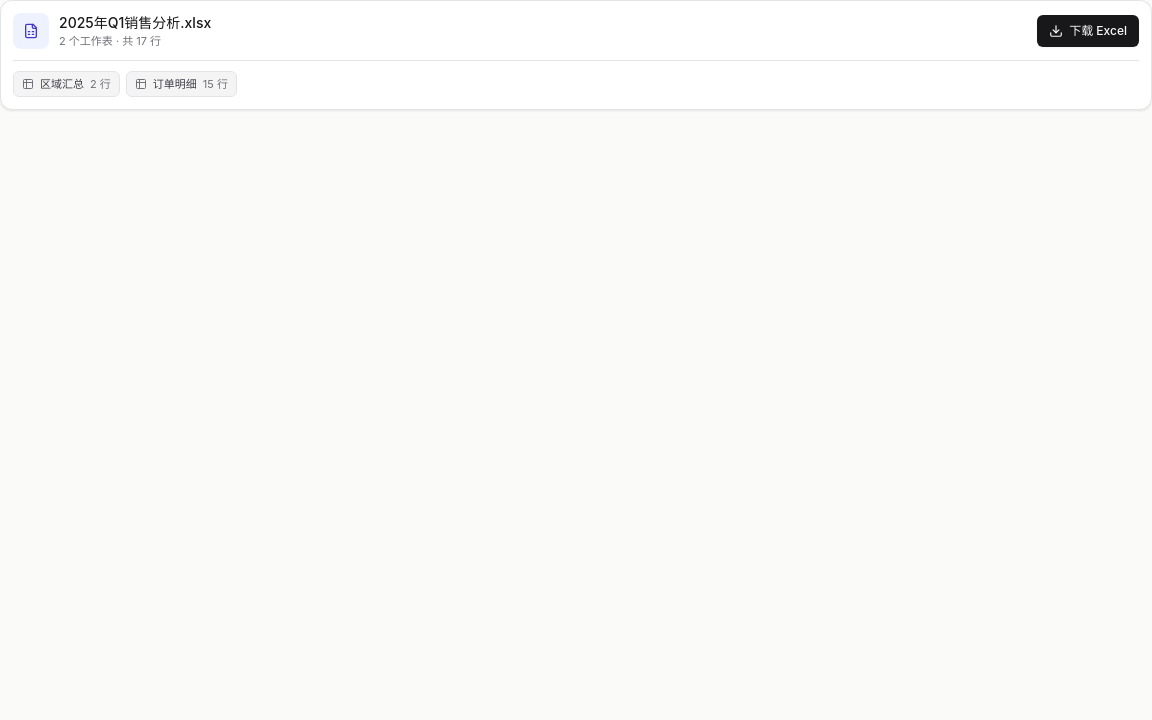
Test: ExcelCard › renders filename, sheet summary, download link and opens cached + lazy sheet previews
expect the text "2025年Q1销售分析.xlsx" is shown: met, box x1=59 y1=13 x2=211 y2=33
expect the text "2 个工作表 · 共 17 行" is shown: met, box x1=59 y1=34 x2=161 y2=48
Click the button "区域汇总 2 行" at x=66, y=84, box x1=13 y1=70 x2=120 y2=97
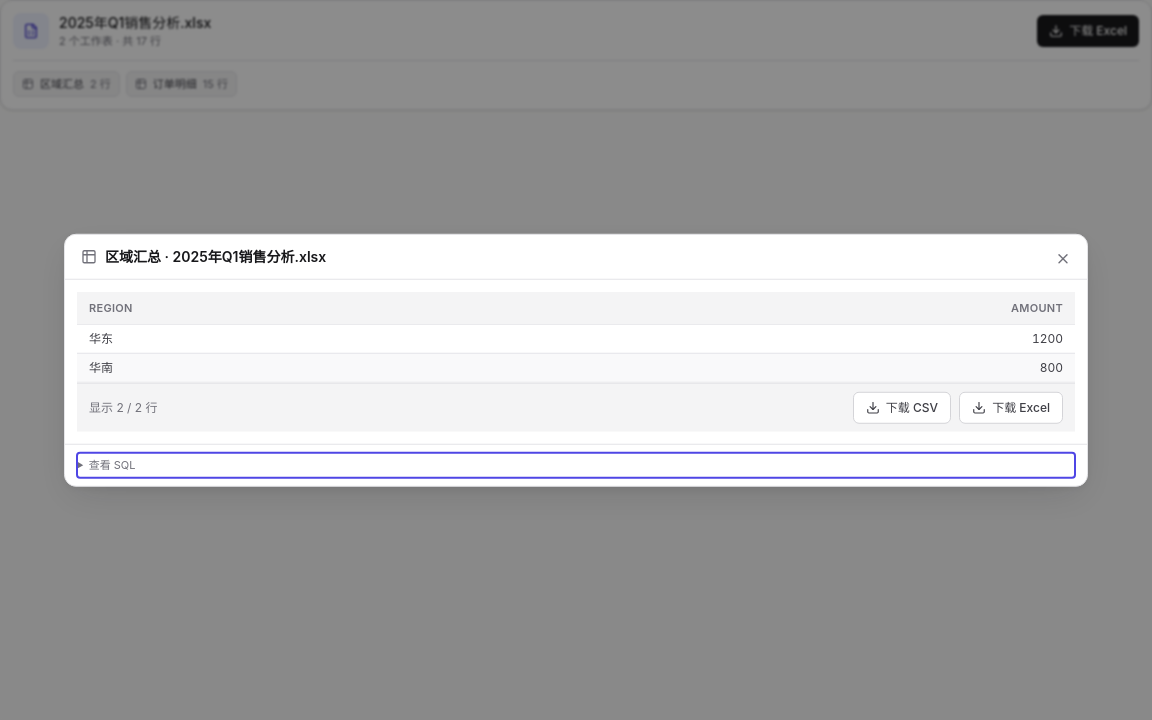
expect the dialog is shown: met, box x1=64 y1=234 x2=1088 y2=486
expect the text "华东" is shown: met, box x1=77 y1=324 x2=547 y2=353
Press Escape
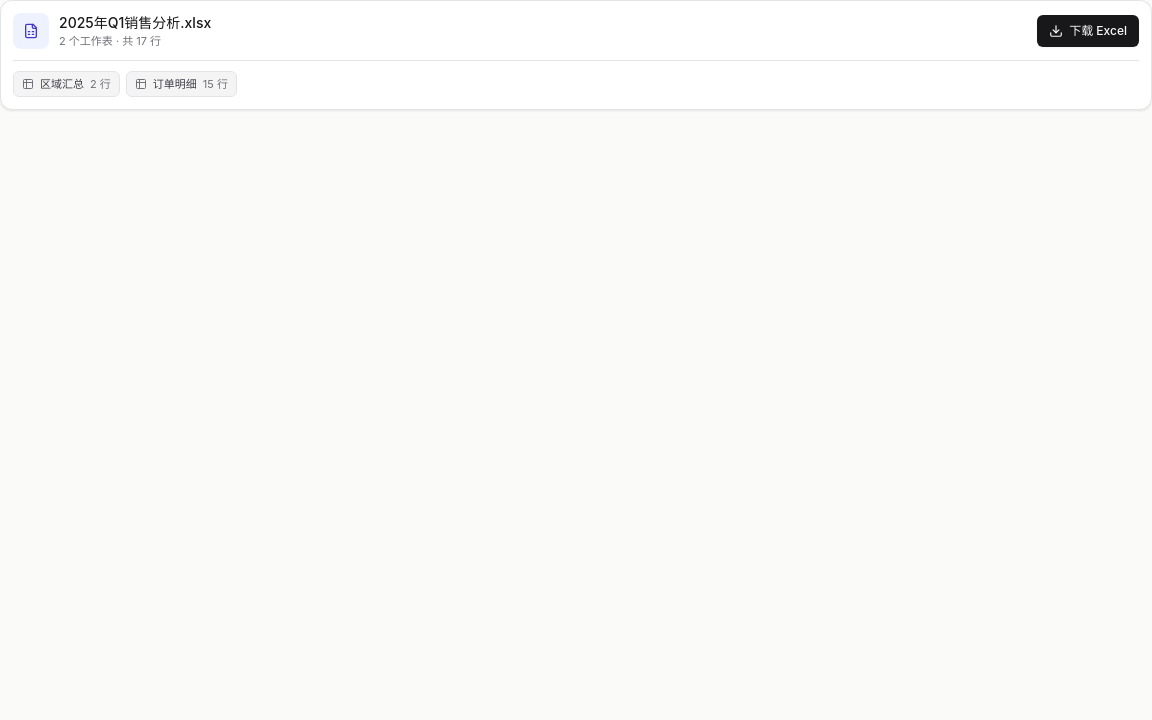
Click the button "订单明细 15 行" at x=181, y=84, box x1=126 y1=70 x2=237 y2=97
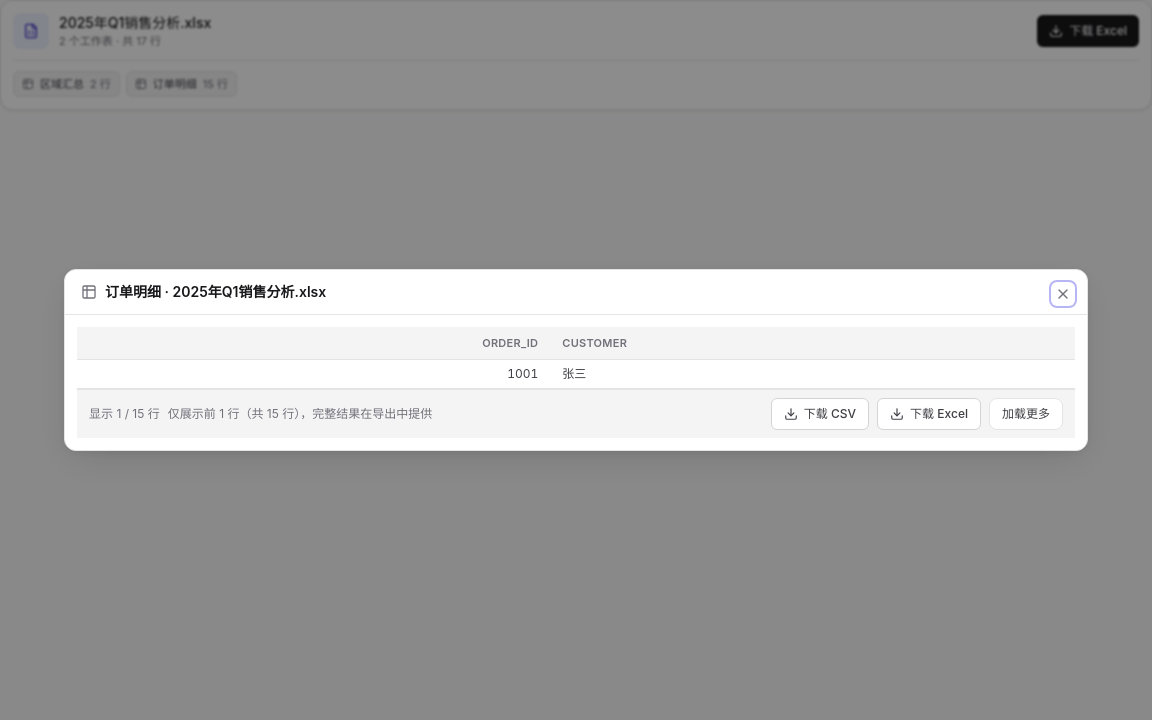
expect the text "张三" is shown: met, box x1=550 y1=360 x2=1075 y2=388
